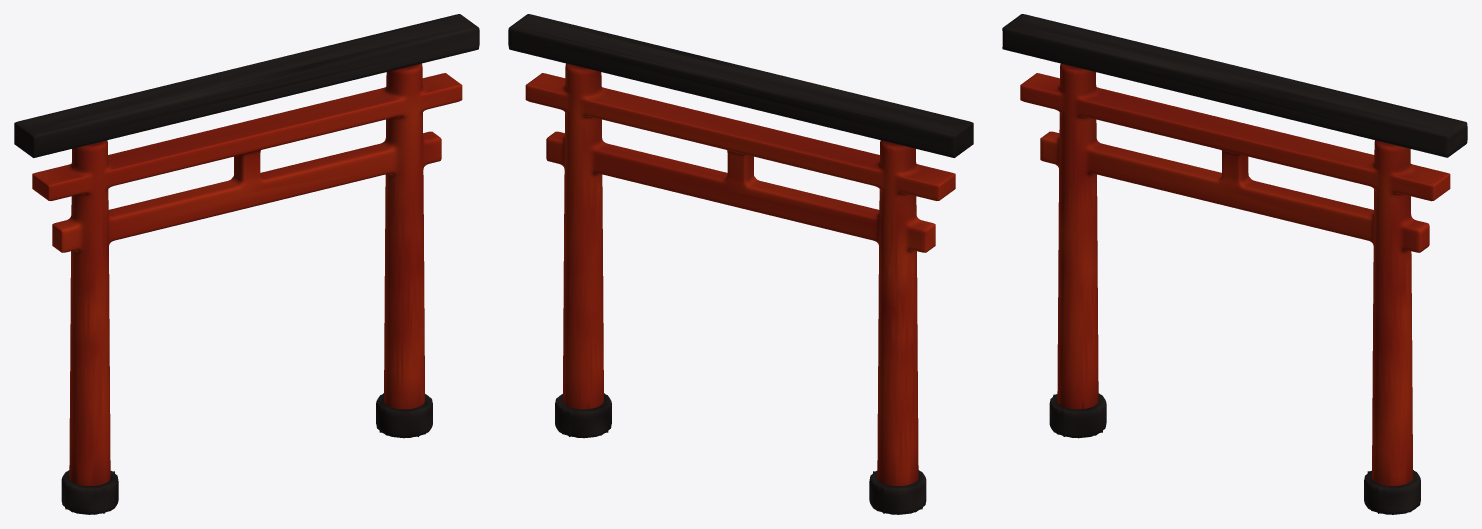
Rendered from torii.glb.
3 renders of one model, left to right at view 1: azimuth 30°, elevation 25°; view 2: azimuth 150°, elevation 25°; view 3: azimuth 330°, elevation 25°, orthographic.
Parts seen in each view (by area): view 1: torii_red, torii_black; view 2: torii_red, torii_black; view 3: torii_red, torii_black.
Boxes of the visible parts, x1=… form: torii_red: x1=32, y1=63, x2=462, y2=486; torii_black: x1=14, y1=14, x2=479, y2=514; torii_red: x1=525, y1=63, x2=955, y2=486; torii_black: x1=508, y1=14, x2=973, y2=514; torii_red: x1=1020, y1=63, x2=1450, y2=486; torii_black: x1=1002, y1=14, x2=1467, y2=514.
Size of the model in its own units: 5.41 by 4.51 by 0.6006.
